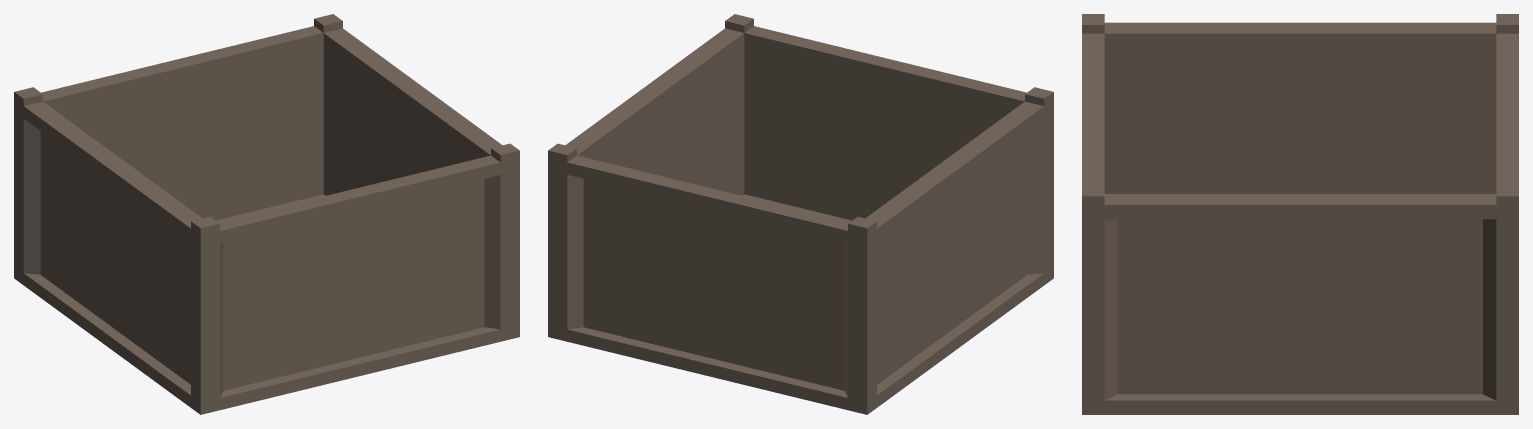
The model's file is O_enviroment_WoodenCrate_MediumOpen1.fbx.
The picture shows the model from 3 angles, left to right: view 1: azimuth 30°, elevation 25°; view 2: azimuth 150°, elevation 25°; view 3: azimuth 270°, elevation 25°; orthographic projection. The views are drawn at different scales.
Parts seen in each view (by area): view 1: pCube5; view 2: pCube5; view 3: pCube5.
Part boxes in pixels (left/top/right/bottom): pCube5: left=14, top=14, right=519, bottom=414; pCube5: left=548, top=14, right=1053, bottom=414; pCube5: left=1082, top=14, right=1518, bottom=414.
Bounding box in the file's own units: 3.02 × 1.69 × 3.06.
